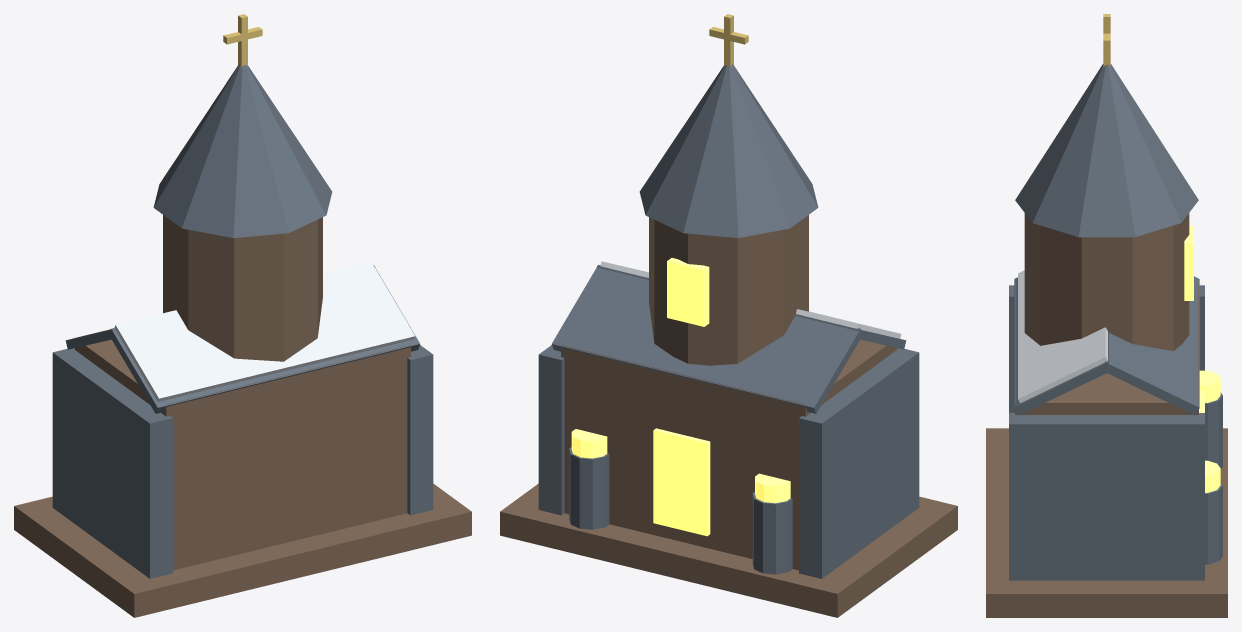
Rendered from faith_keepers.glb.
3 views of the same model, side by side, from view 1: azimuth 30°, elevation 25°; view 2: azimuth 150°, elevation 25°; view 3: azimuth 270°, elevation 25° (orthographic).
Parts seen in each view (by area): view 1: faith_keepers_Building; view 2: faith_keepers_Building; view 3: faith_keepers_Building.
Part boxes in pixels (x1=…): faith_keepers_Building: x1=14, y1=14, x2=471, y2=617; faith_keepers_Building: x1=500, y1=14, x2=957, y2=617; faith_keepers_Building: x1=986, y1=14, x2=1227, y2=617.
Bounding box in the file's own units: 3.24 × 4.74 × 2.
